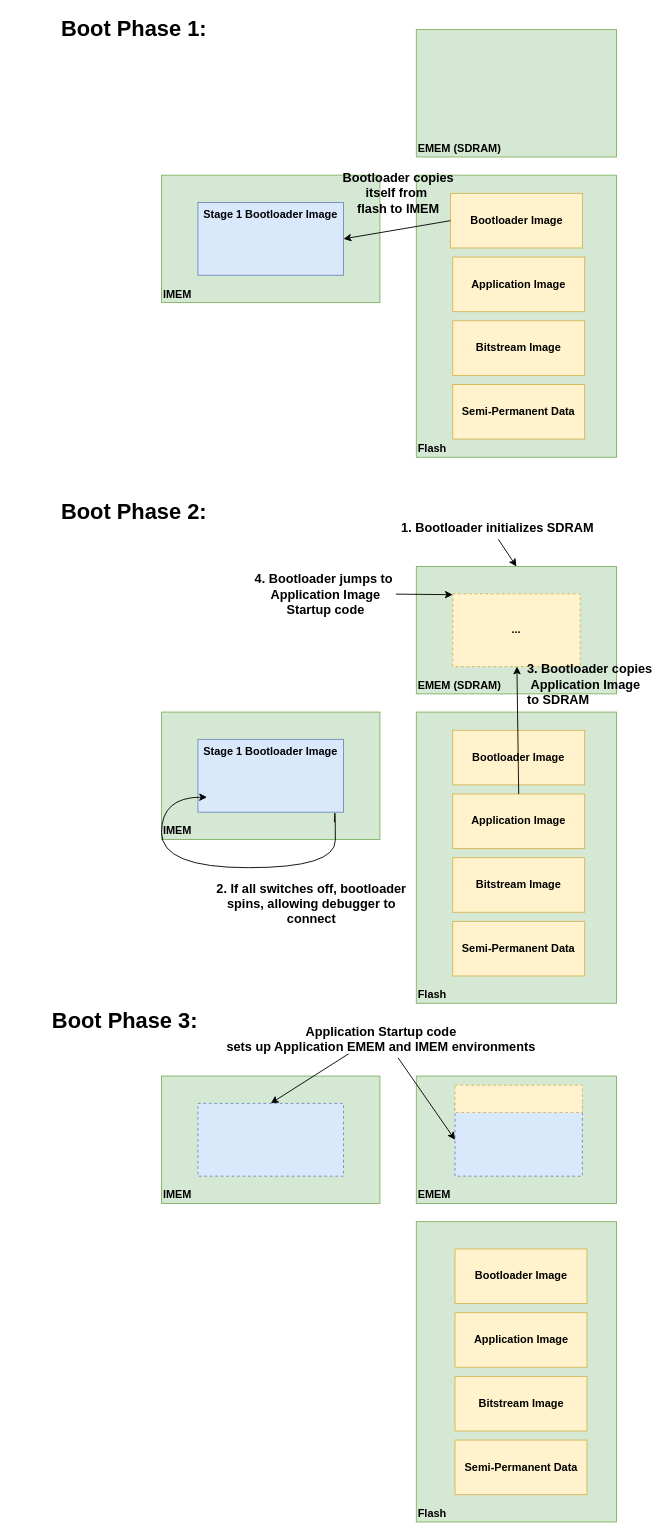
The diagram is 668 pixels wide and 1538 high, and some of its shapes have lost their labels. Each missing label, with the centre of its shape:
Application EMEM Env: point 518,1139
Application IMEM Env: point 270,1139
Application Startup Code: point 518,1098
